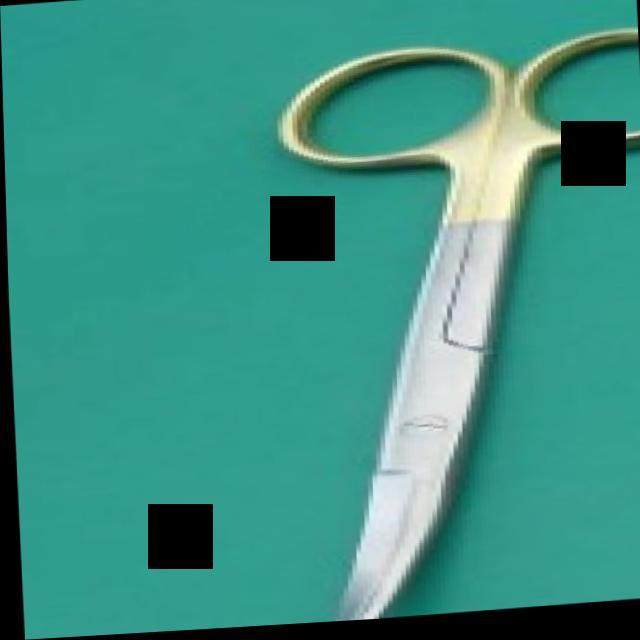Curved Mayo: (262, 24, 640, 628)
